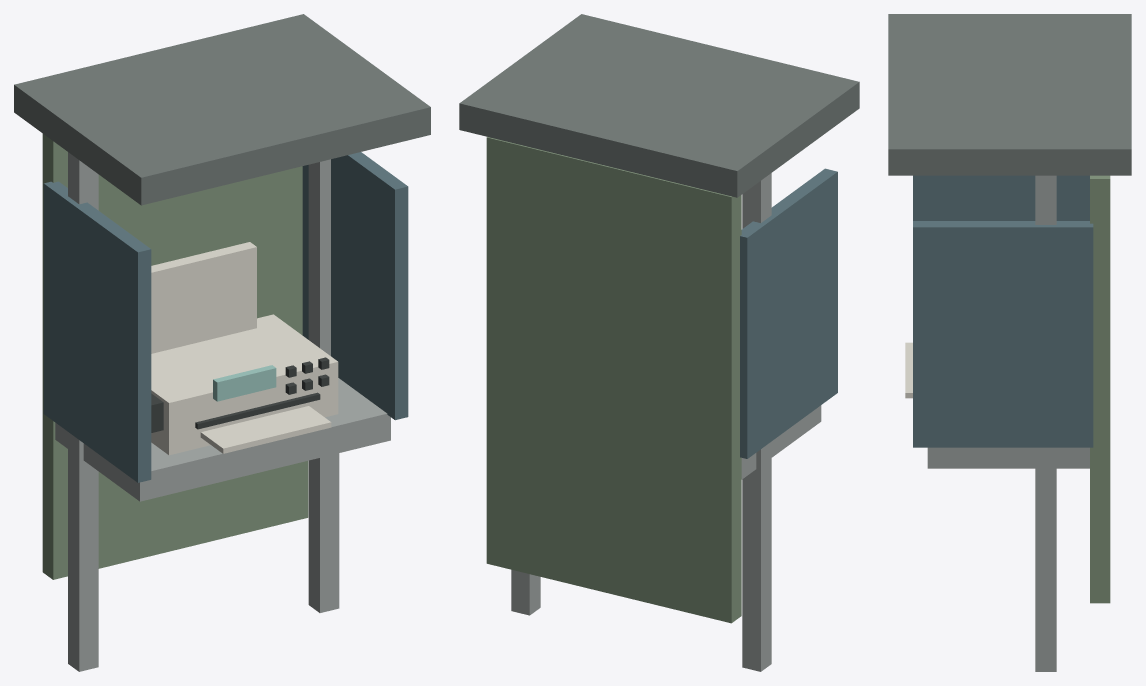
File: fax-kiosk.glb
The picture shows the model from 3 angles, left to right: view 1: azimuth 30°, elevation 25°; view 2: azimuth 150°, elevation 25°; view 3: azimuth 270°, elevation 25°; orthographic projection. The views are drawn at different scales.
Visible parts, largest first — view 1: fax-kiosk; view 2: fax-kiosk; view 3: fax-kiosk.
Part boxes in pixels (x1=…): fax-kiosk: x1=14, y1=14, x2=430, y2=671; fax-kiosk: x1=459, y1=14, x2=859, y2=671; fax-kiosk: x1=888, y1=14, x2=1131, y2=671.
Size of the model in its own units: 1.42 by 2.6 by 1.08.
